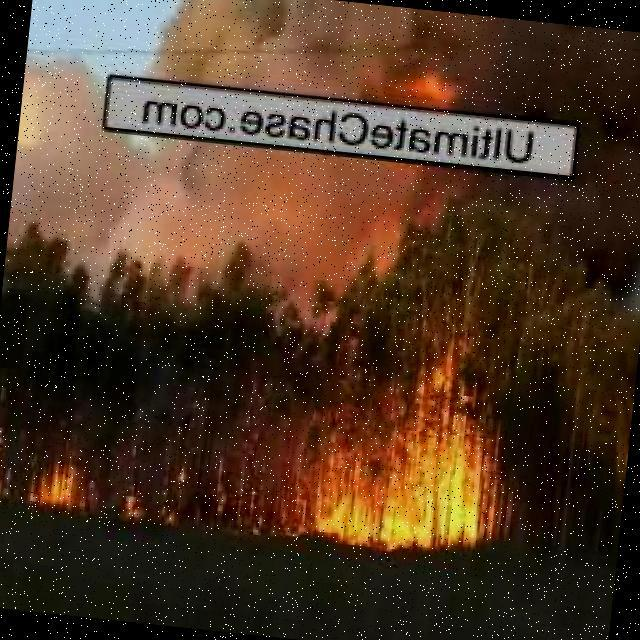Fire: (300, 336, 511, 557), (161, 417, 282, 539), (29, 466, 90, 509), (400, 74, 461, 108), (0, 440, 14, 496), (112, 499, 143, 522)
